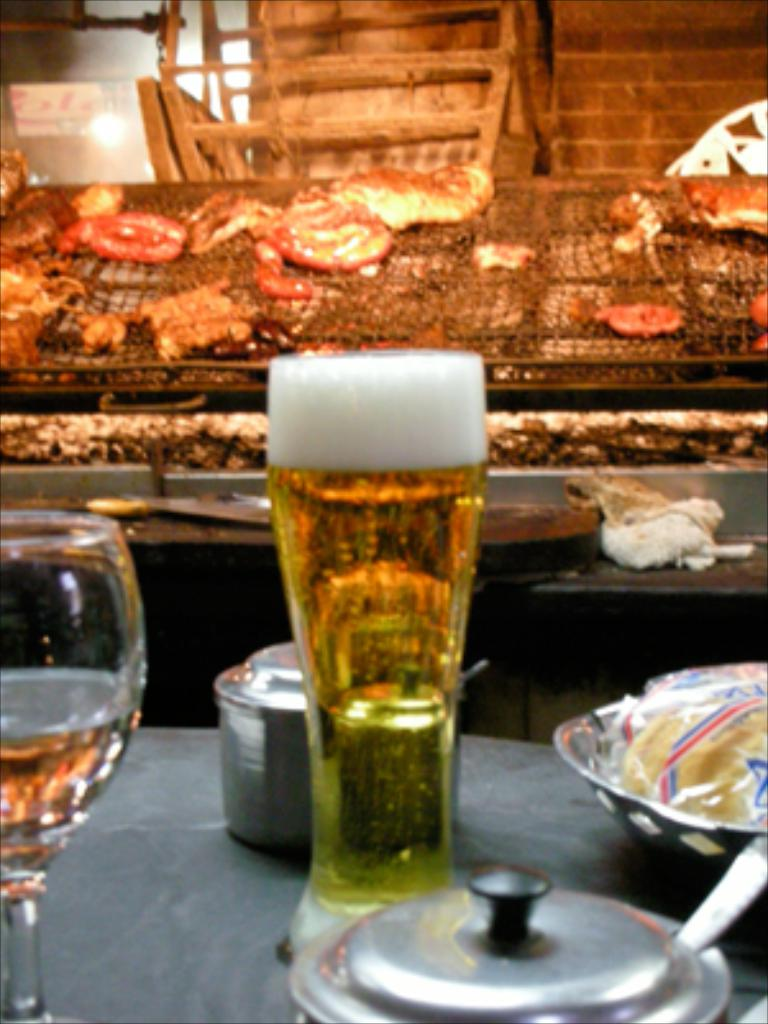Beer: (255, 350, 491, 908)
